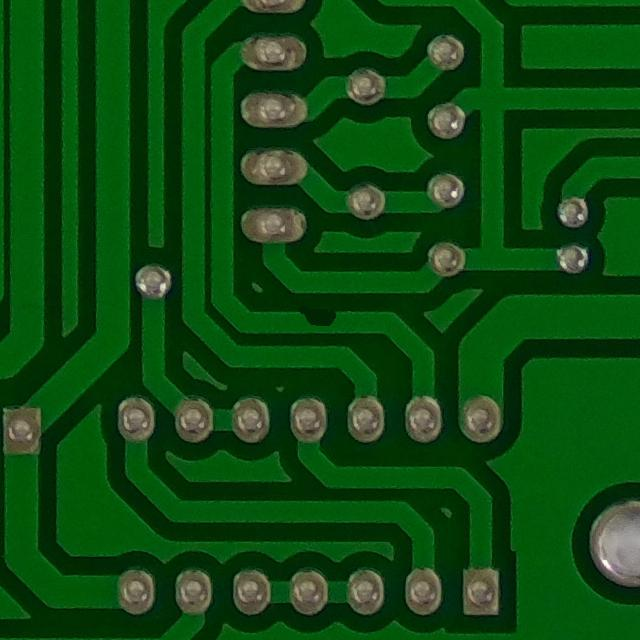mouse_bite: (295, 298, 345, 343)
